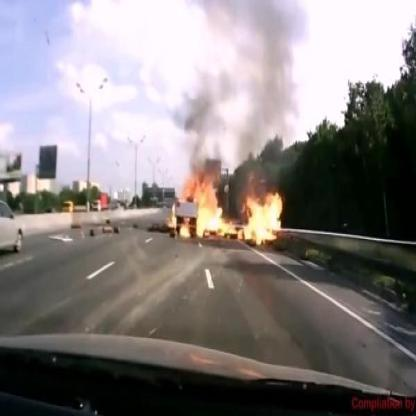fire: (195, 165, 284, 246), (166, 202, 178, 228), (180, 214, 192, 240)
